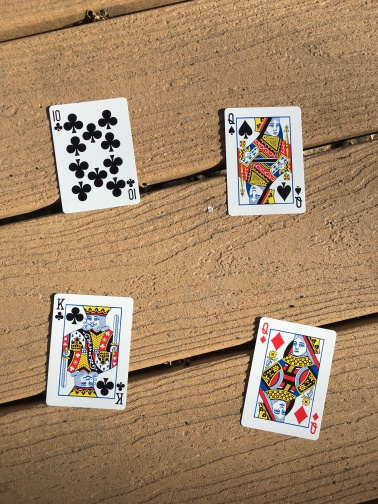king: (46, 290, 135, 412)
queen: (241, 315, 338, 441), (221, 105, 308, 217)
ten: (48, 96, 143, 215)
